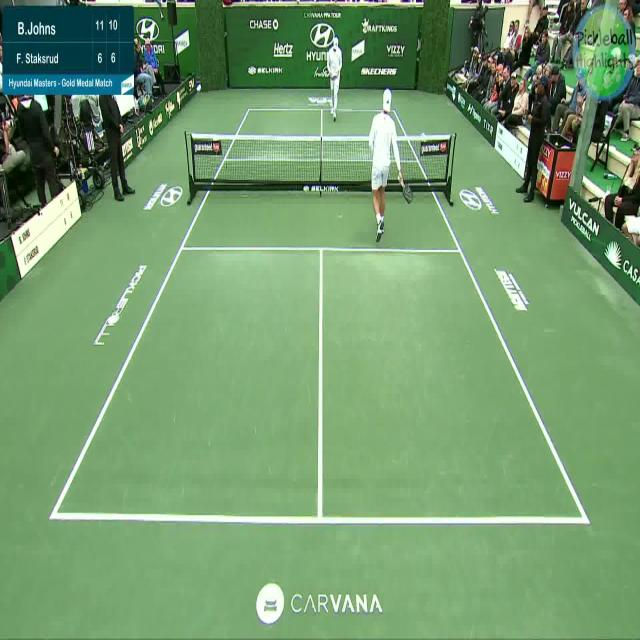Court: (53, 108, 587, 523)
